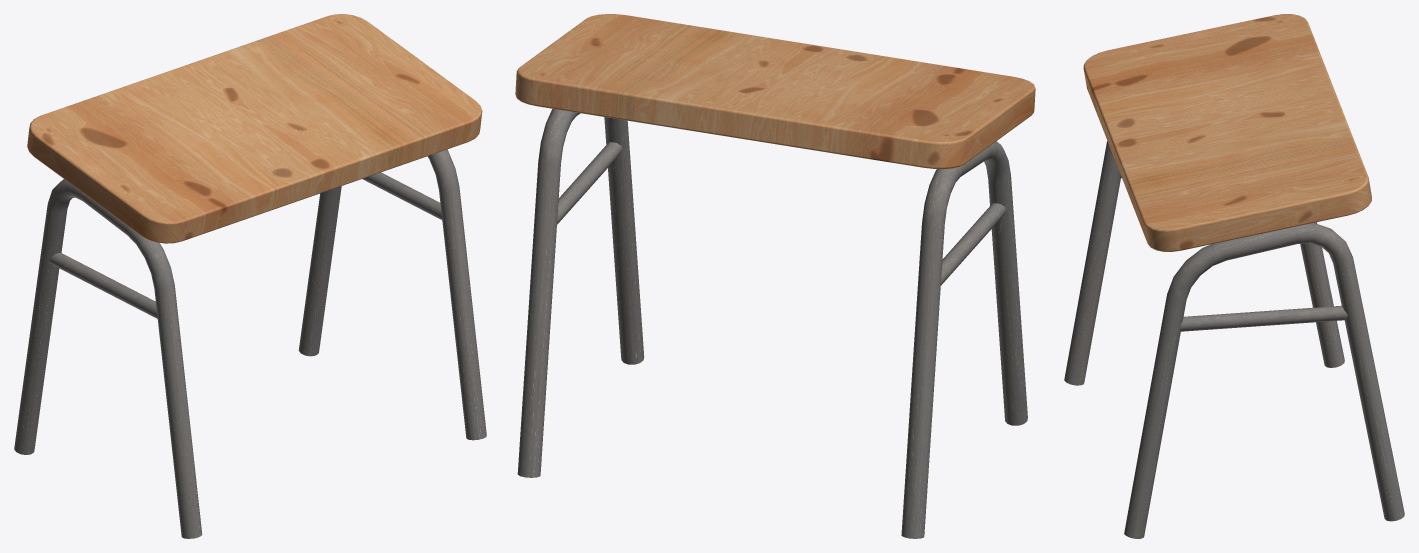
File: wood_desk_1.glb
3 views of the same model, side by side, from view 1: azimuth 30°, elevation 25°; view 2: azimuth 150°, elevation 25°; view 3: azimuth 270°, elevation 25° (orthographic). The views are drawn at different scales.
Visible parts, largest first — view 1: Table.001, Vert; view 2: Table.001, Vert; view 3: Table.001, Vert.
Boxes of the visible parts, x1,y1,x2,y2 form: Table.001: (27,14,482,243); Vert: (14,149,486,538); Table.001: (515,14,1035,168); Vert: (517,109,1027,538); Table.001: (1083,14,1371,251); Vert: (1064,141,1404,538).
Bounding box in the file's own units: 2.29 × 1.93 × 1.73.
2 materials, 2 textured.
